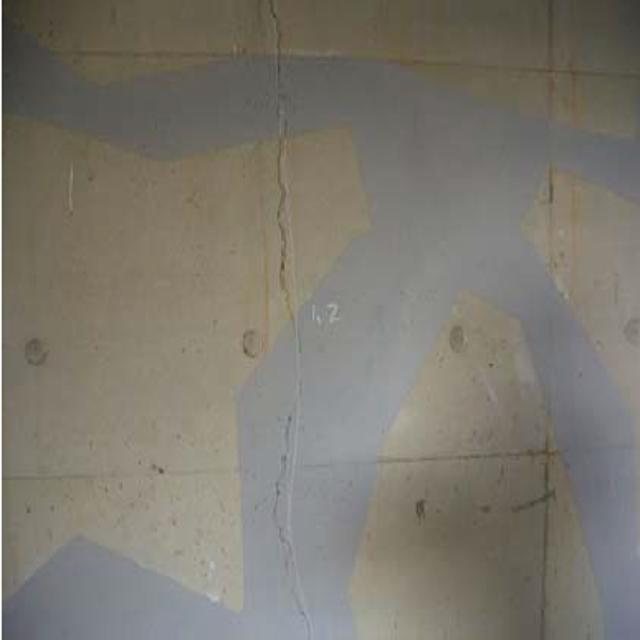crack: (250, 6, 339, 610)
